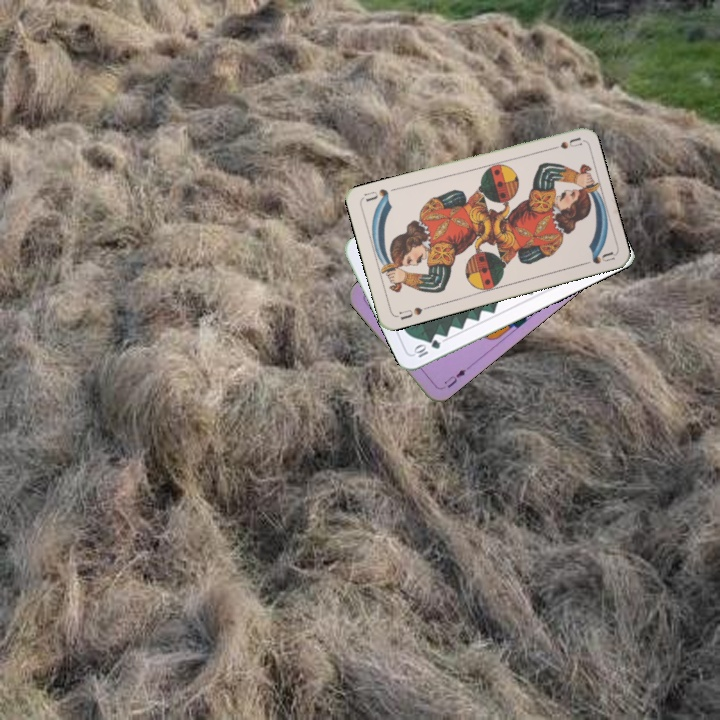EU: (440, 362, 472, 391)
G10: (409, 336, 443, 360)
SU: (542, 133, 583, 154), (395, 302, 432, 323)
